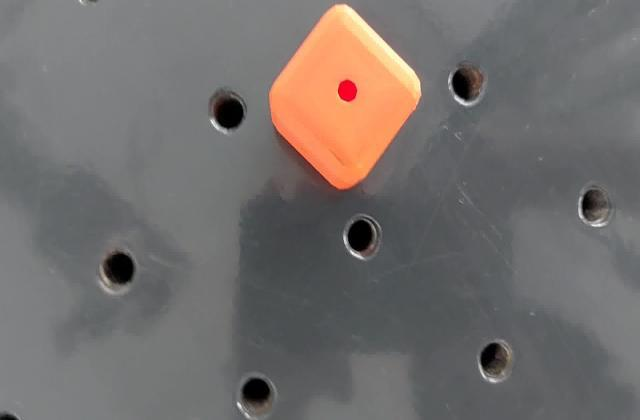cube: (268, 2, 422, 194)
